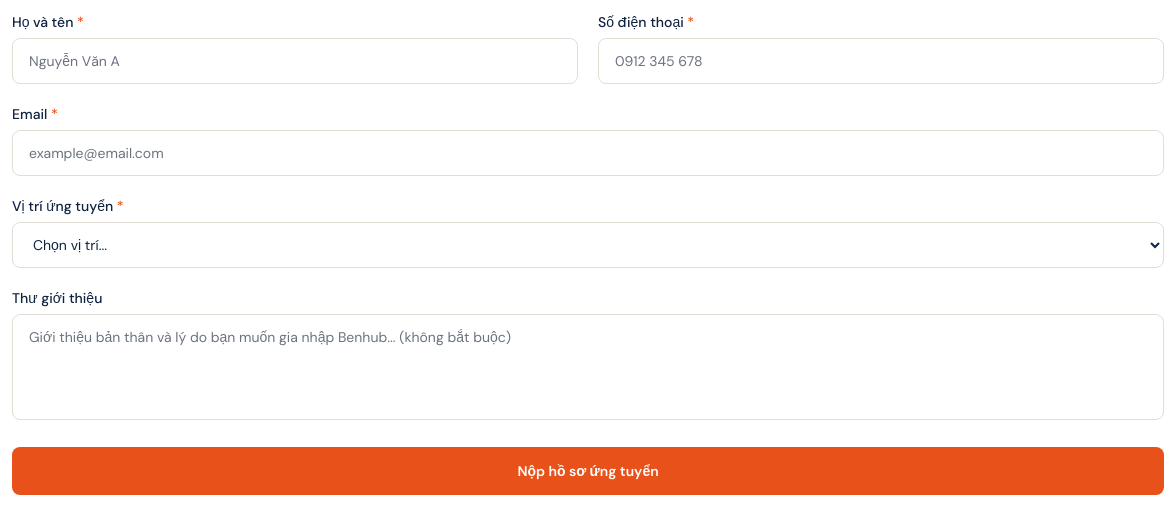
JobApplyForm — submission › shows success after valid submit
The image size is (1176, 512).
Type "Lê Thị Ứng Viên" into the field labelled "Họ và tên *" at (295, 61), box x1=12 y1=38 x2=578 y2=84
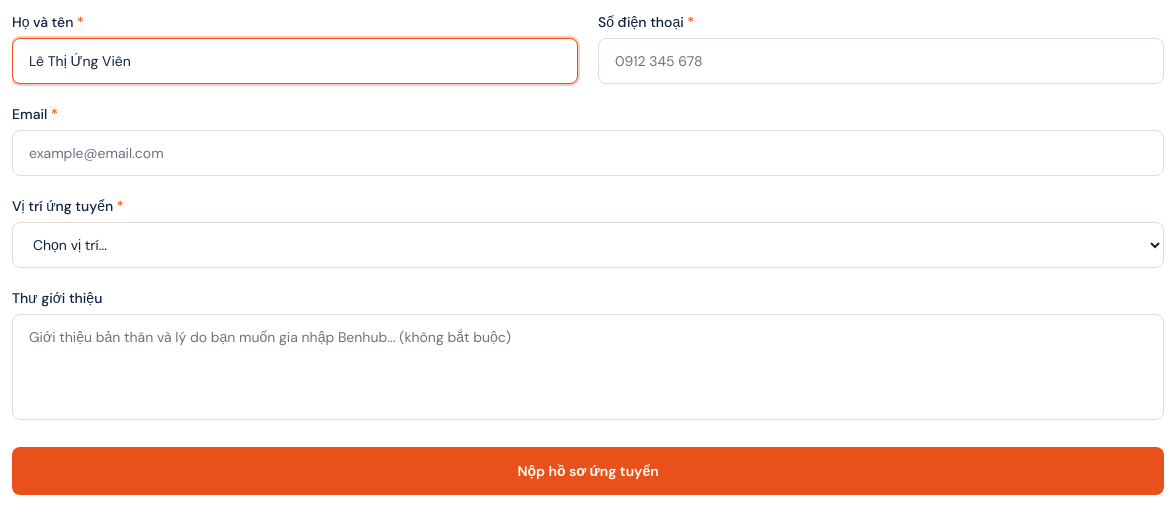
Type "0901234567" into the field labelled "Số điện thoại *" at (881, 61), box x1=598 y1=38 x2=1164 y2=84
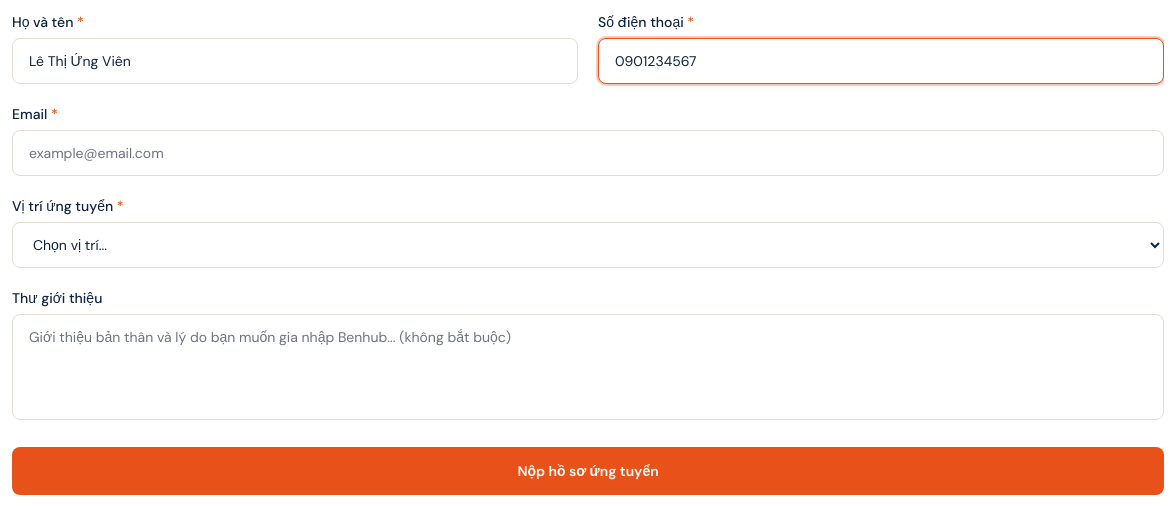
Type "ung.vien@example.com" into the field labelled "Email *" at (588, 153), box x1=12 y1=130 x2=1164 y2=176
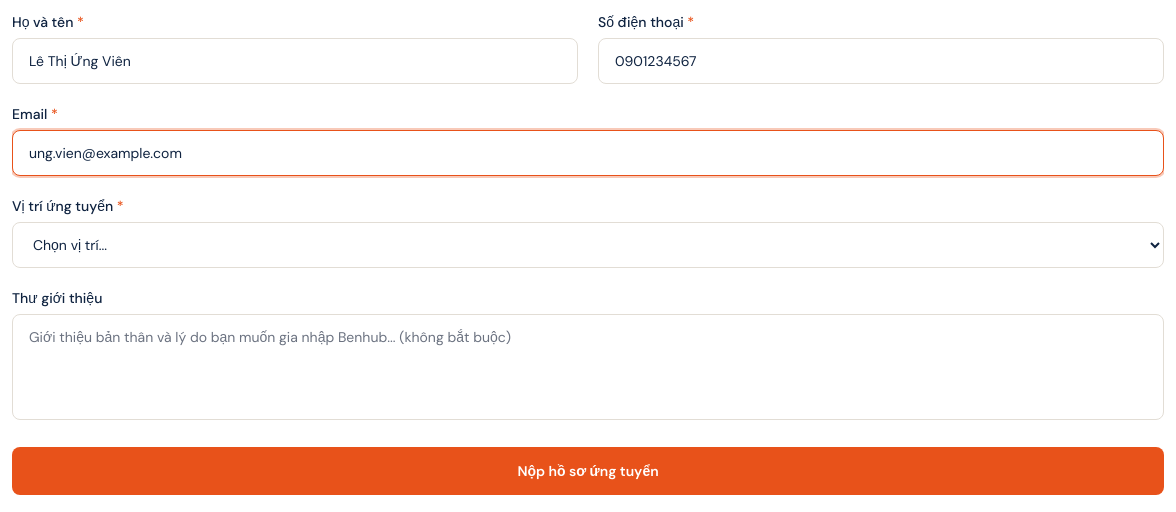
Select "Sales B2B – Phát triển Khách hàng Doanh nghiệp" in the dropdown labelled "Vị trí ứng tuyển *" at (588, 245), box x1=12 y1=222 x2=1164 y2=268
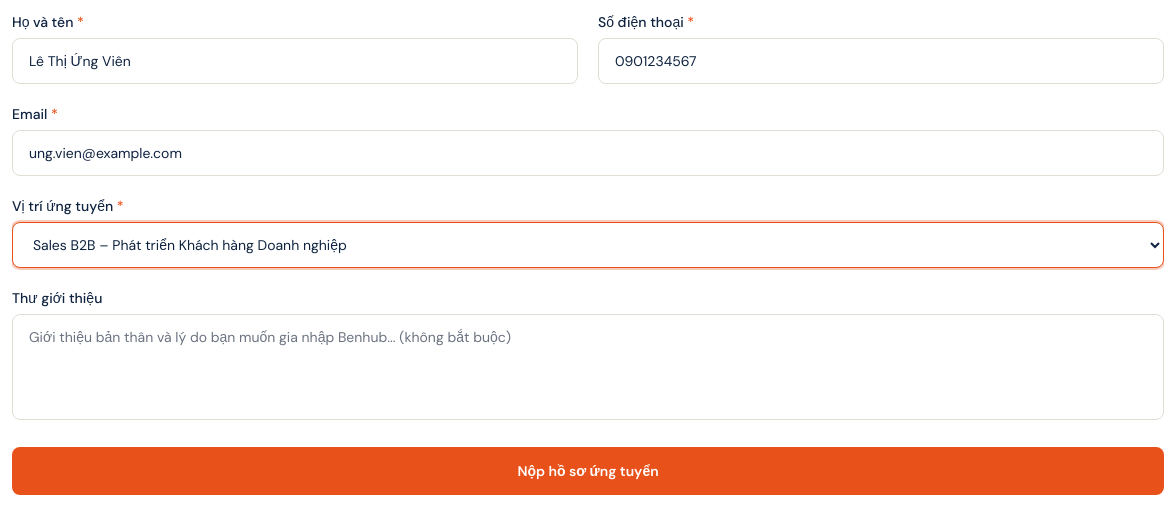
Click the button "Nộp hồ sơ ứng tuyển" at (588, 471), box x1=12 y1=447 x2=1164 y2=495
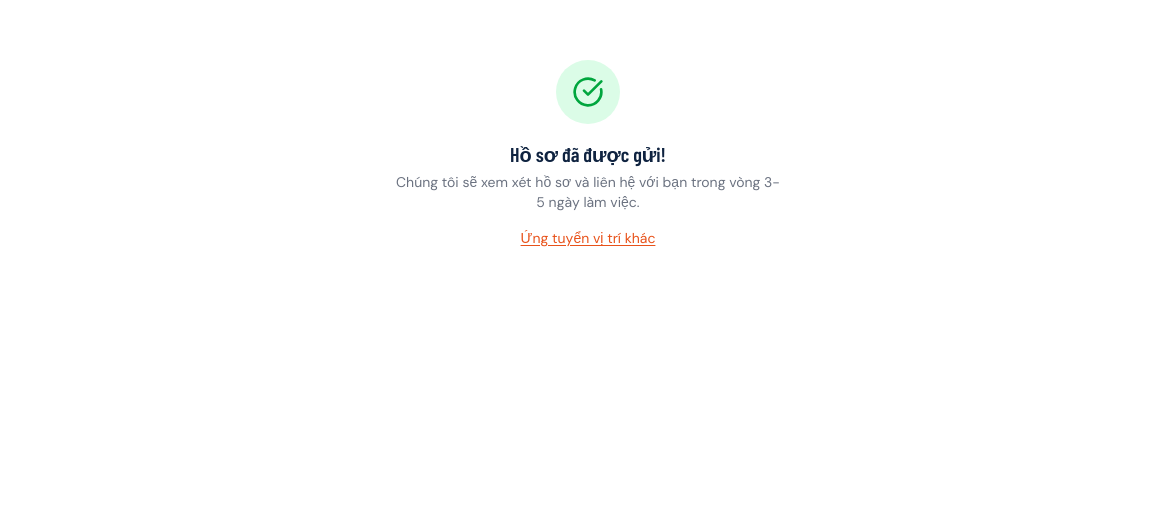
Result: the heading "Hồ sơ đã được gửi!" is shown at x1=510 y1=142 x2=666 y2=166
